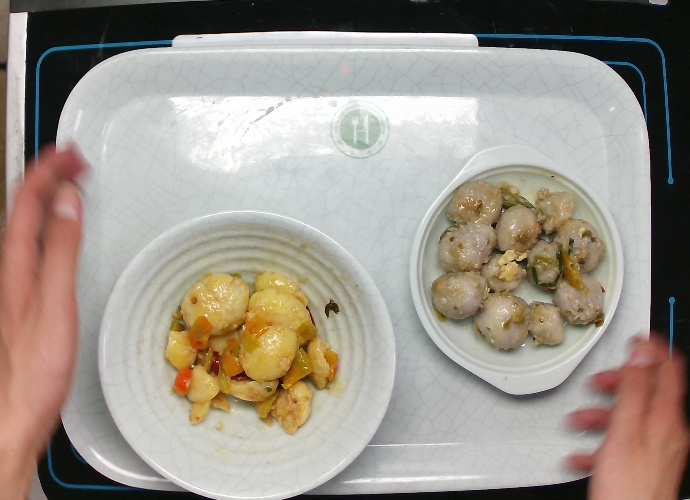JYsf-Shuang_Er_Pan: (407, 140, 626, 397)
JYsf-Xiao_Tang_Wan: (95, 207, 398, 500)
